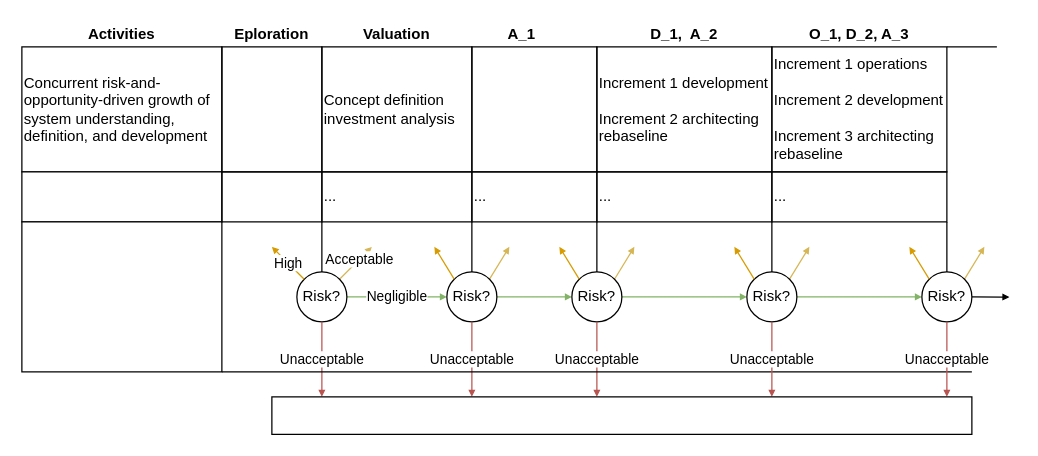
Image size: 1038x456. Some labels were removed from this diagram. The centre of each missing label's shape, as x and y in pixels:
Adjust scope, priorities, or discontinue: pixel 621 415
Evaluation of evidence of feasibility to proceed: pixel 121 196
Feasibility rationales: pixel 271 196
Initial scoping: pixel 271 109
Stakeholder review and commitment: pixel 121 296
System architecting: pixel 534 109
